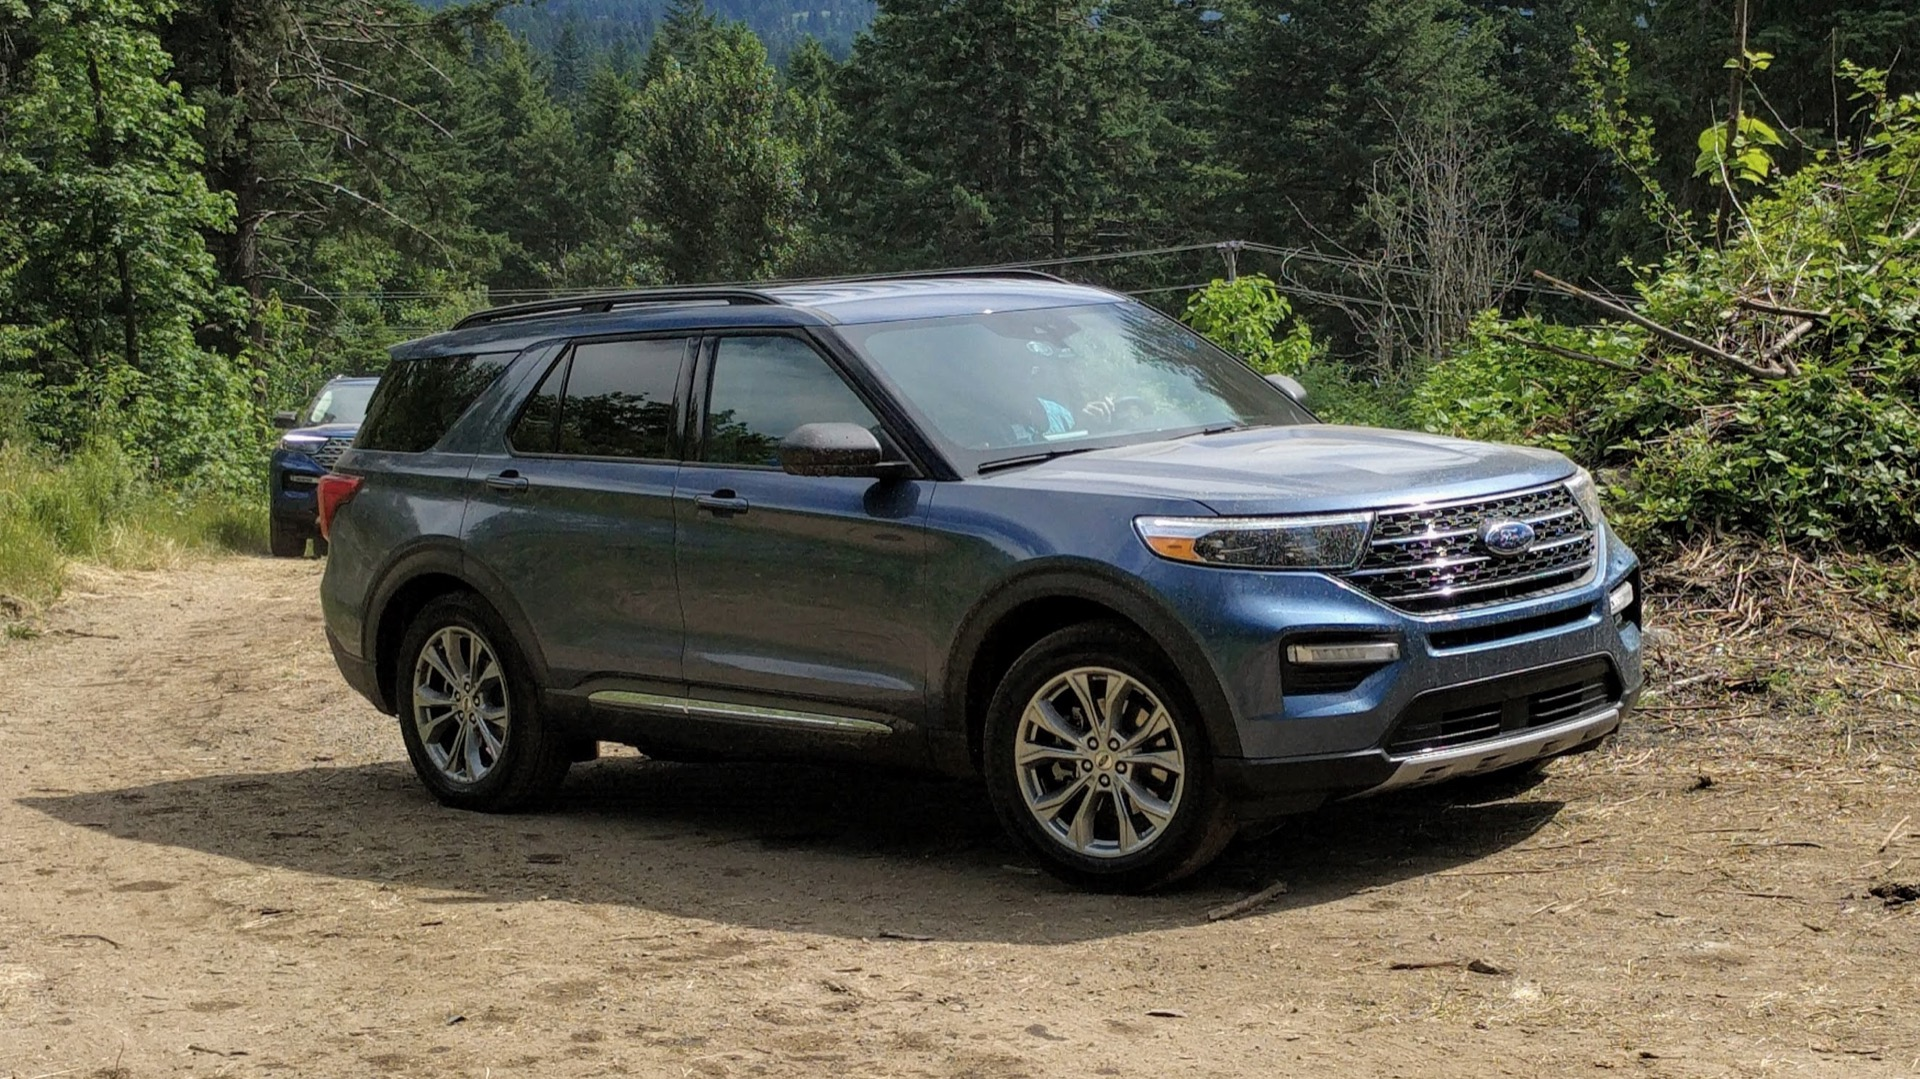Ford Explorer: (315, 278, 1640, 897)
